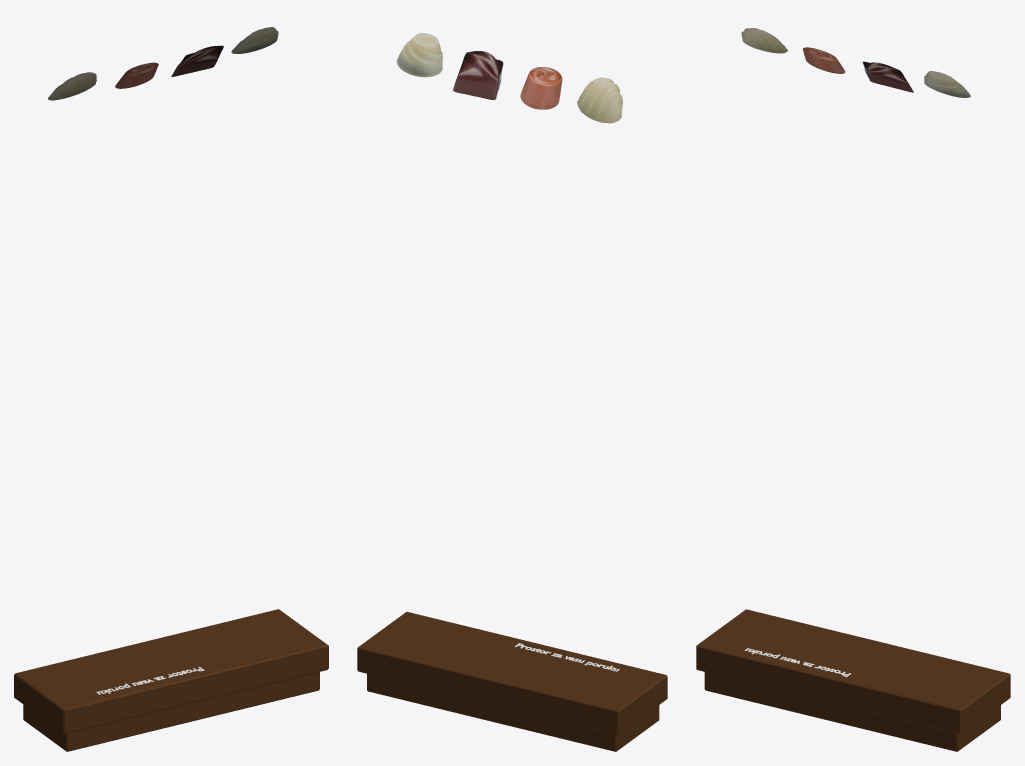
Rendered from auror.e0f0bdb8.glb.
The picture shows the model from 3 angles, left to right: view 1: azimuth 30°, elevation 25°; view 2: azimuth 150°, elevation 25°; view 3: azimuth 330°, elevation 25°; orthographic projection.
Visible parts, largest first — view 1: Cube.001, Cube, Plane.001, Plane.003, Plane, Plane.002; view 2: Cube.001, Cube, Plane.001, Plane.003, Plane, Plane.002; view 3: Cube.001, Cube, Plane.001, Plane.003, Plane, Plane.002.
Boxes of the visible parts, <box> form: Cube.001: <box>14,609,328,734</box>; Cube: <box>23,672,319,751</box>; Plane.001: <box>171,45,223,76</box>; Plane.003: <box>48,72,96,100</box>; Plane: <box>231,27,278,53</box>; Plane.002: <box>115,62,158,88</box>; Cube.001: <box>357,611,667,734</box>; Cube: <box>367,674,659,751</box>; Plane.001: <box>453,51,503,100</box>; Plane.003: <box>577,77,622,123</box>; Plane: <box>396,33,442,77</box>; Plane.002: <box>520,67,562,109</box>; Cube.001: <box>696,609,1010,734</box>; Cube: <box>704,672,1000,751</box>; Plane.001: <box>862,61,913,92</box>; Plane.003: <box>741,28,787,53</box>; Plane: <box>924,71,970,97</box>; Plane.002: <box>803,47,845,73</box>.
Size of the model in its own units: 24.09 by 57.86 by 7.88.
Materials: 5 (4 with a texture image).
